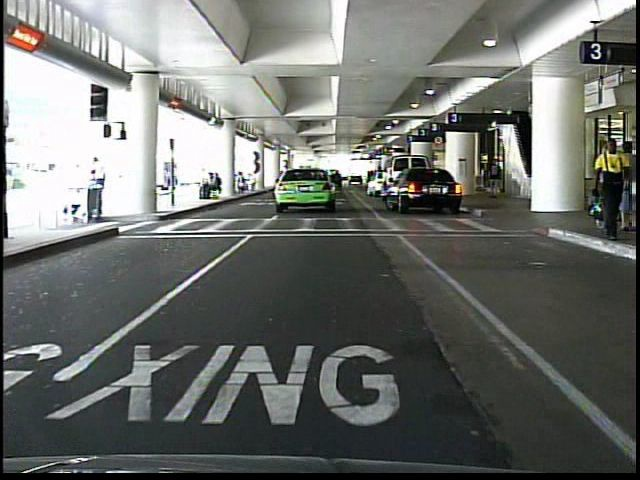person: (581, 135, 625, 245), (85, 155, 118, 227), (612, 144, 638, 232), (486, 158, 503, 203)
